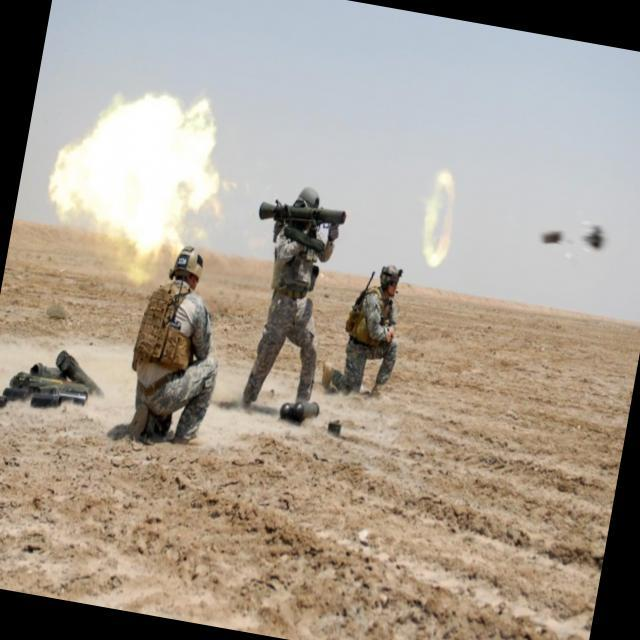rocket: (253, 192, 352, 241)
